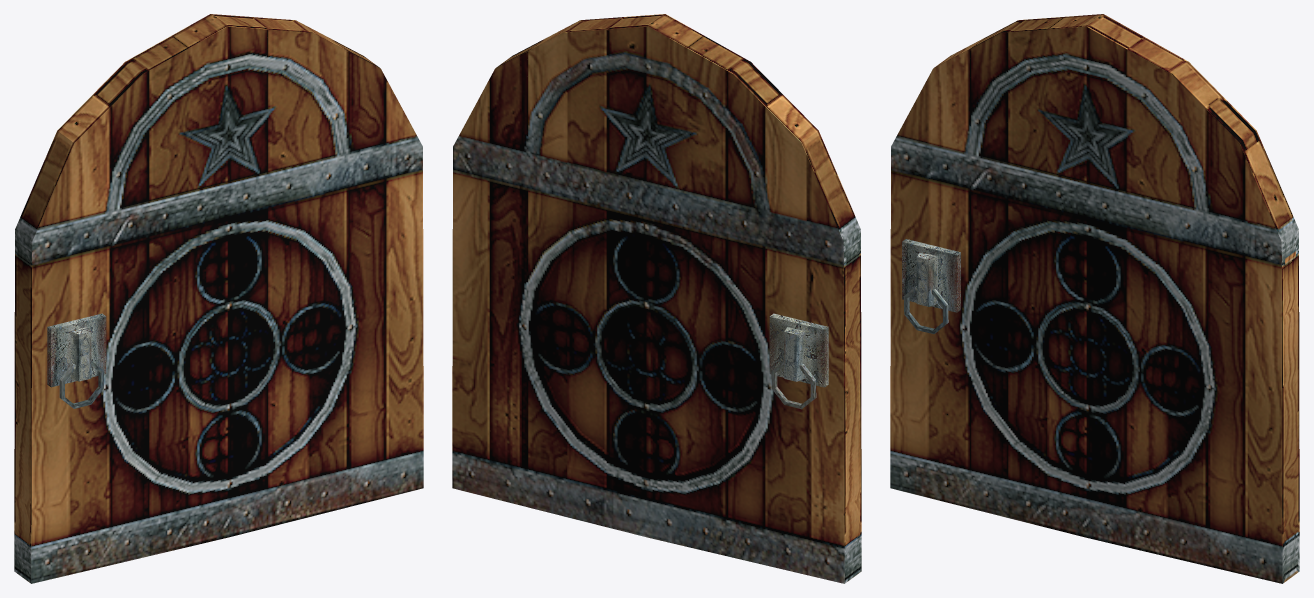
Rendered from Prop_AM_BossDoor.fbx.
3 views of the same model, side by side, from view 1: azimuth 30°, elevation 25°; view 2: azimuth 150°, elevation 25°; view 3: azimuth 330°, elevation 25° (orthographic).
Visible parts, largest first — view 1: Prop_AM_BossDoor; view 2: Prop_AM_BossDoor; view 3: Prop_AM_BossDoor.
Boxes of the visible parts, box(x1,y1,x2,y2) form: Prop_AM_BossDoor: box(14, 14, 423, 583); Prop_AM_BossDoor: box(452, 14, 861, 583); Prop_AM_BossDoor: box(890, 14, 1299, 583).
Size of the model in its own units: 2.02 by 2.52 by 0.3426.
Materials: 1 (1 with a texture image).
